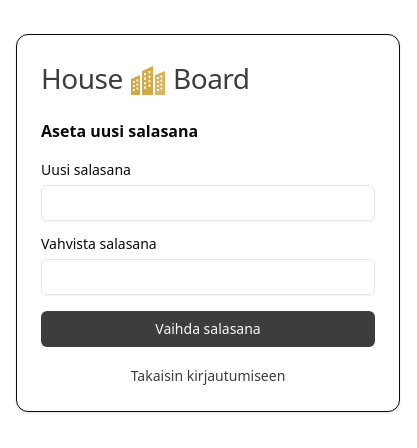
Test: ResetPasswordPage › shows validation error for short password
Click the password field labelled "Uusi salasana": (208, 203) [41,185,375,221]
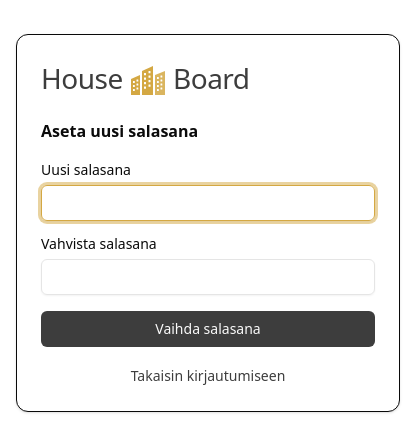
Type keys "short"
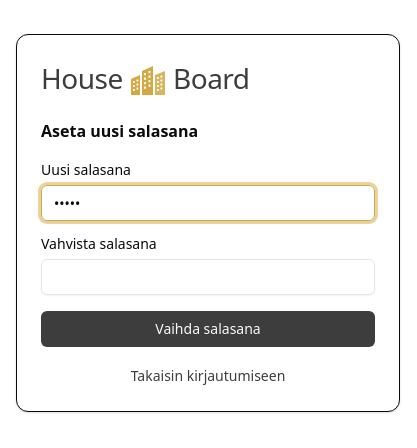
Click the password field labelled "Vahvista salasana": (208, 277) [41,259,375,295]
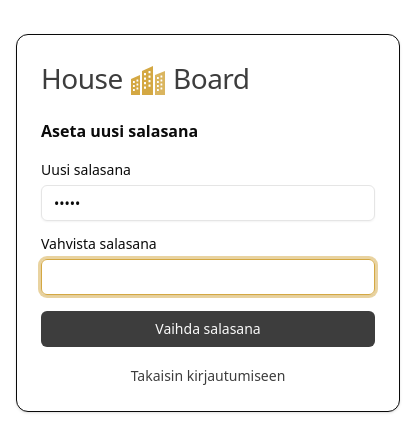
Type keys "short"
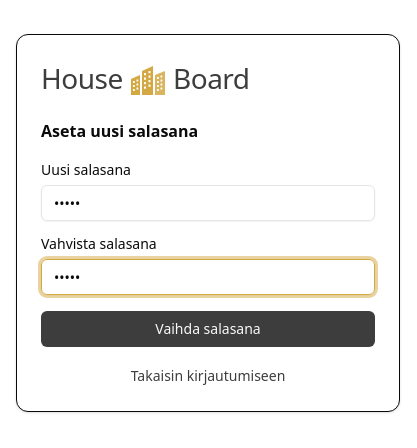
Click the button "Vaihda salasana": (208, 329) [41,311,375,347]
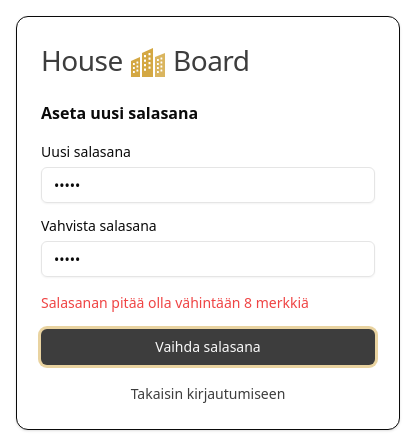
Check: the message shows "vähintään 8 merkkiä", box [41,293,309,312]
